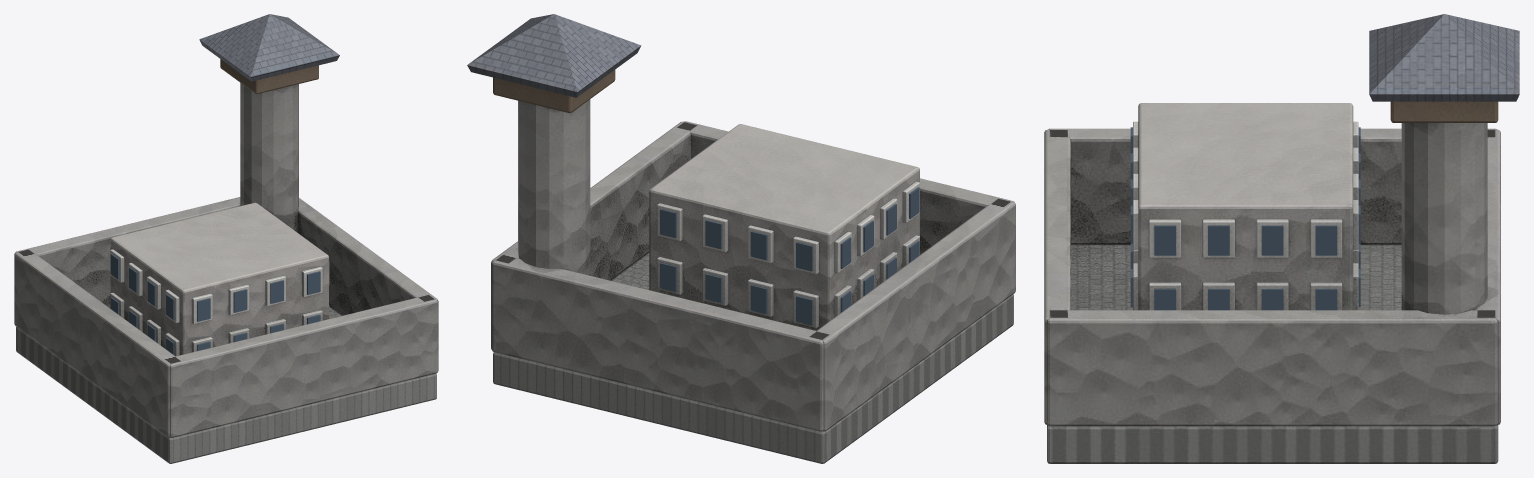
Rendered from gefaengnis.glb.
3 renders of one model, left to right at view 1: azimuth 30°, elevation 25°; view 2: azimuth 150°, elevation 25°; view 3: azimuth 270°, elevation 25°, orthographic. The views are drawn at different scales.
Visible parts, largest first — view 1: gefaengnis, gefaengnis_details; view 2: gefaengnis, gefaengnis_details; view 3: gefaengnis, gefaengnis_details.
Boxes of the visible parts, x1,y1,x2,y2 form: gefaengnis: (14,14,438,463); gefaengnis_details: (110,254,320,354); gefaengnis: (467,14,1015,463); gefaengnis_details: (660,187,919,324); gefaengnis: (1044,14,1519,463); gefaengnis_details: (1130,127,1360,310).
Bounding box in the file's own units: 0.885 × 0.88 × 0.885.
Materials: 2 (1 with a texture image).
